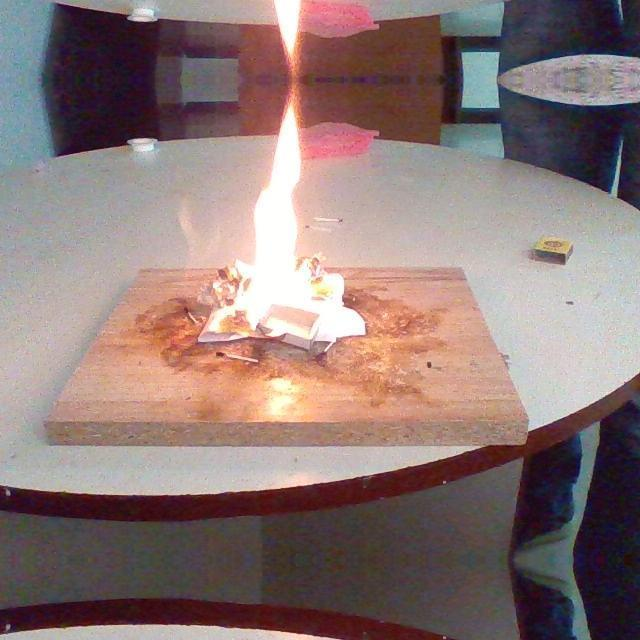smoke: (225, 90, 318, 322), (271, 0, 307, 70)
